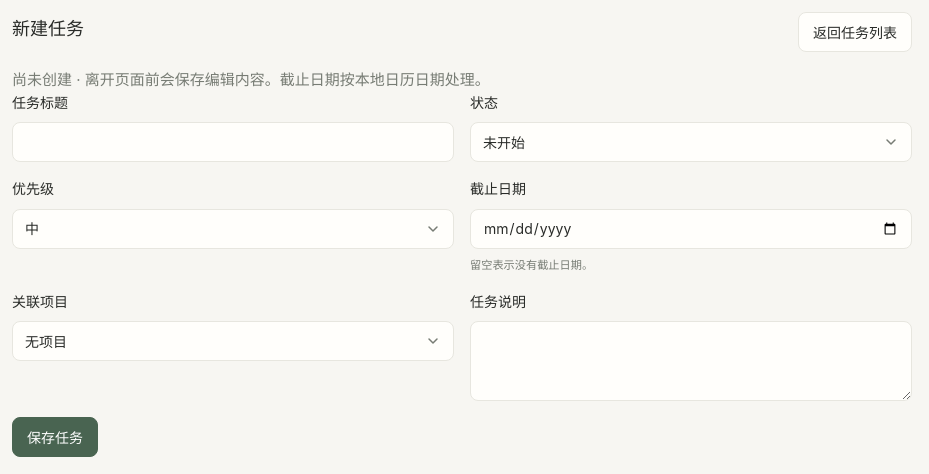
it: 空白新任务尚未创建，离开空白表单不会写入数据库
This screenshot has width=929, height=474.
Check: the text "尚未创建 · 离开页面前会保存编辑内容。截止日期按本地日历日期处理。" is shown, box [12, 70, 490, 89]
Step 1. Type "待创建" into the field labelled "任务标题" → [233, 142], box [12, 122, 454, 162]
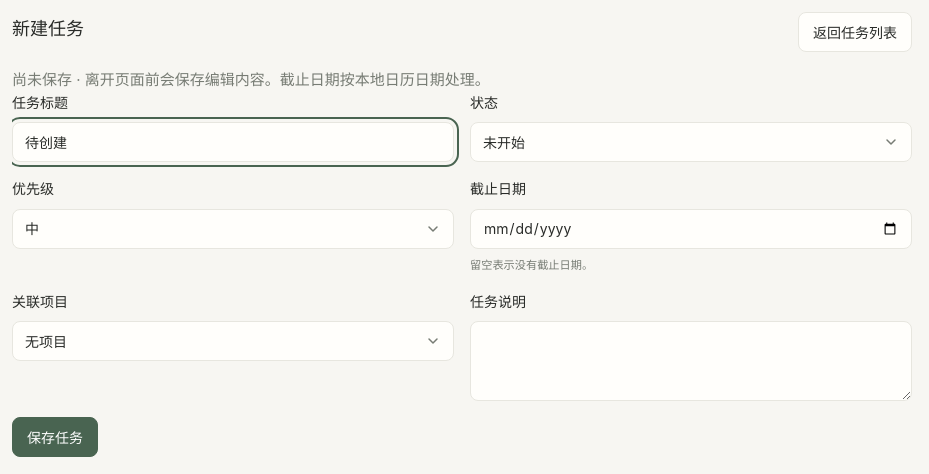
Check: the text "尚未保存 · 离开页面前会保存编辑内容。截止日期按本地日历日期处理。" is shown, box [12, 70, 490, 89]
